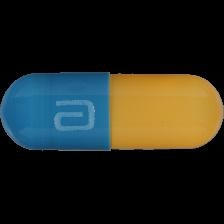0115-1460: (0, 0, 224, 224)
